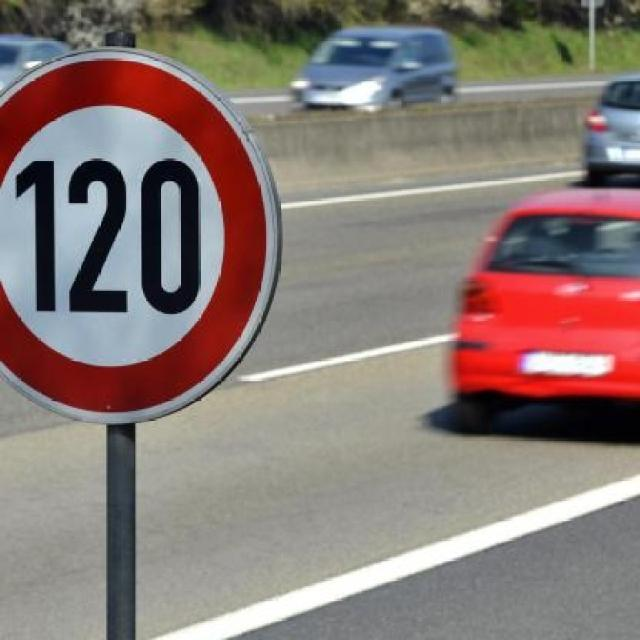forb_speed_over_120: (0, 62, 263, 416)
